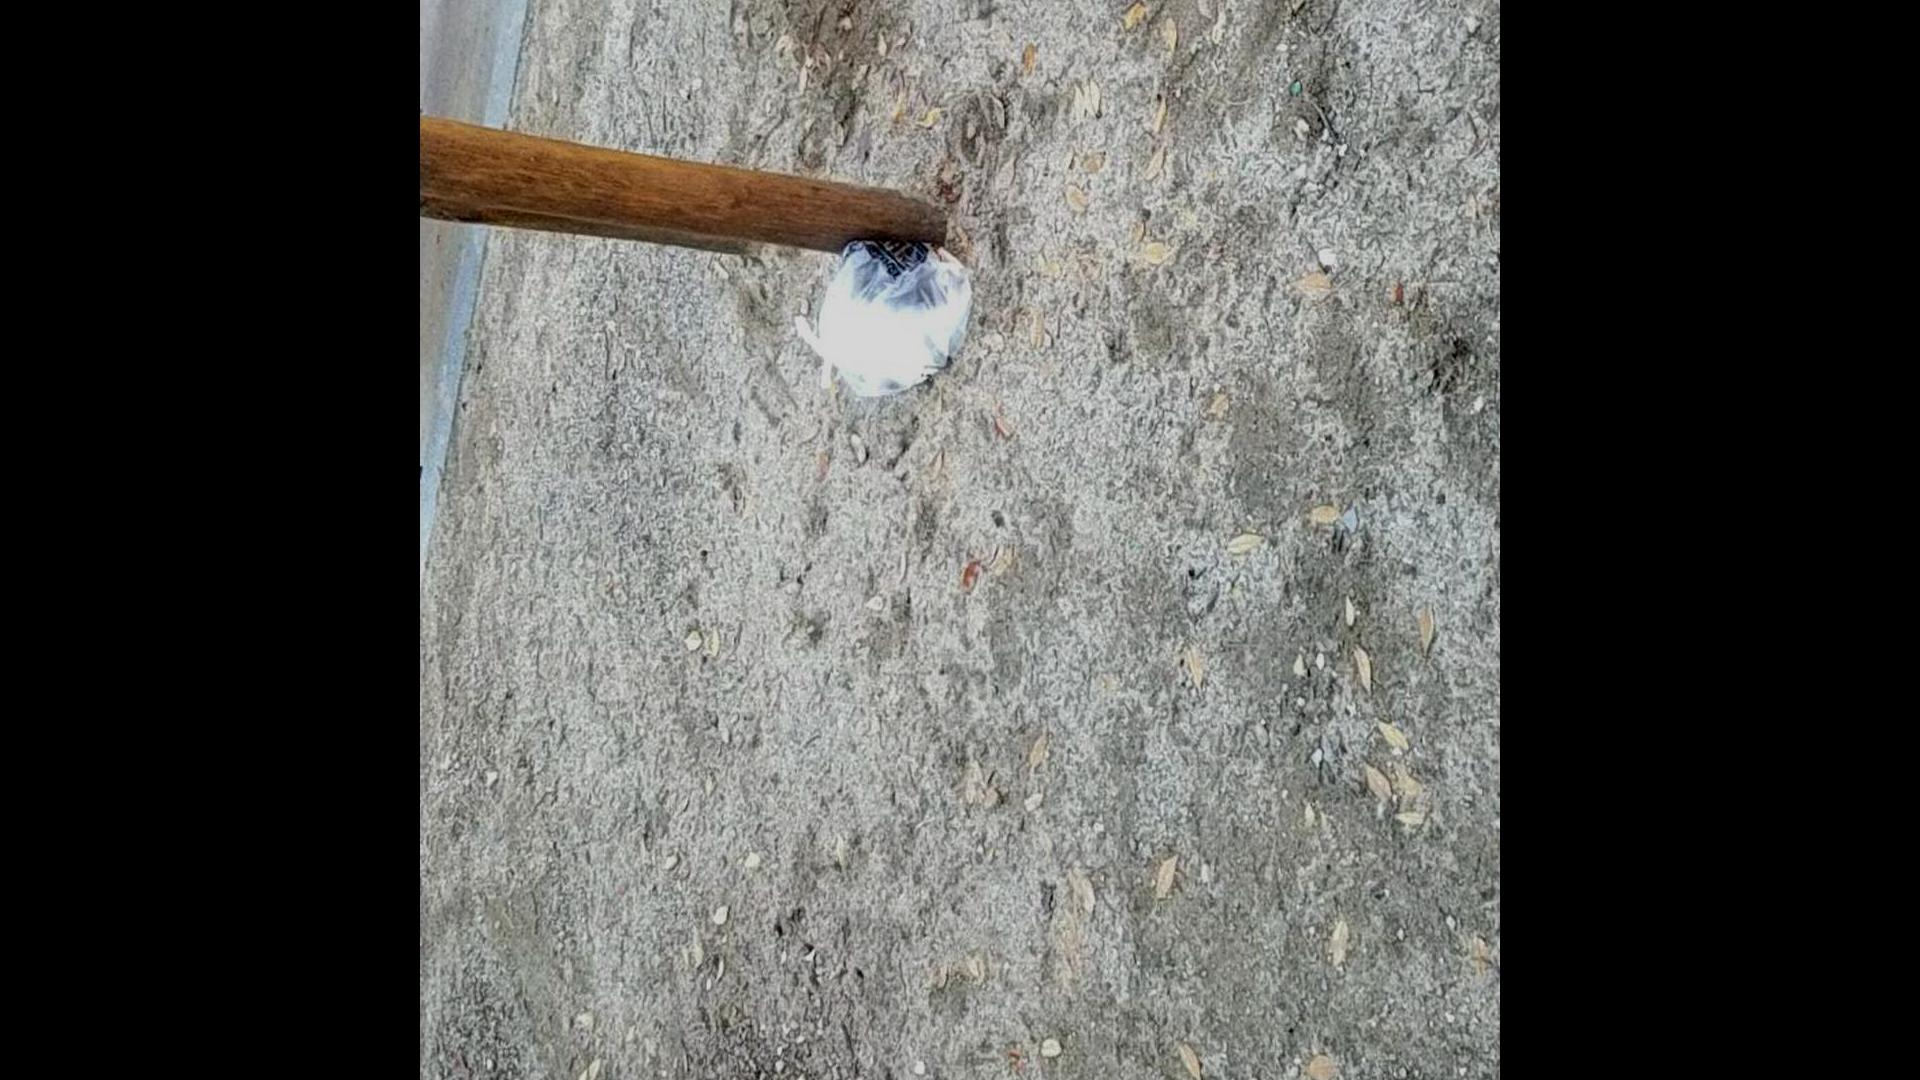white_bag: (782, 223, 985, 431)
